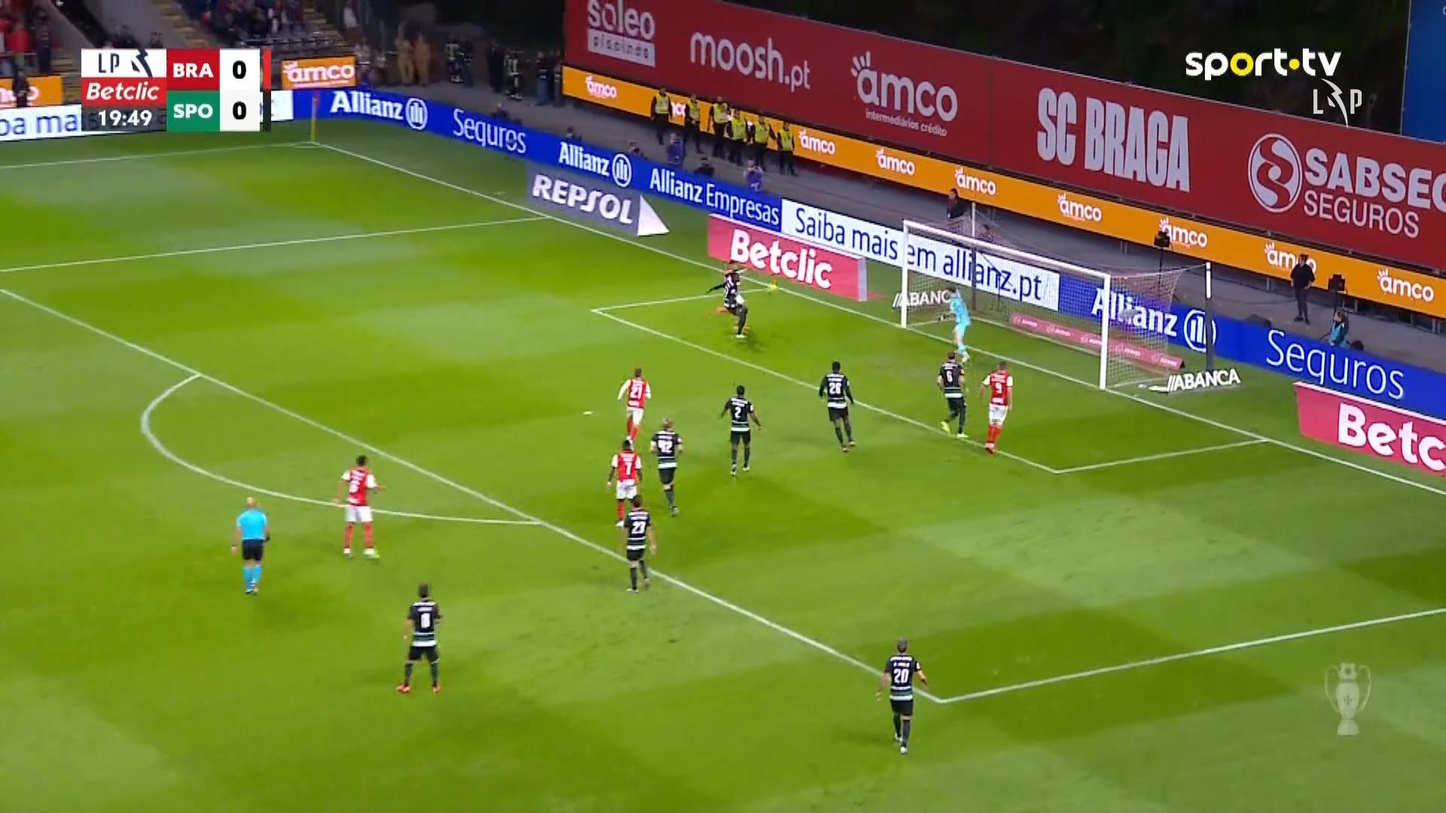ball: (768, 284, 777, 294)
goalkeeper: (938, 286, 972, 364)
player: (874, 637, 929, 754), (332, 453, 385, 559), (395, 582, 443, 694), (718, 383, 762, 477), (620, 494, 657, 592), (648, 416, 684, 516), (817, 360, 856, 452), (705, 260, 750, 338), (605, 437, 642, 527), (978, 359, 1013, 454), (936, 349, 969, 437), (615, 366, 651, 446), (728, 290, 749, 337)
referee: (230, 495, 270, 595)
